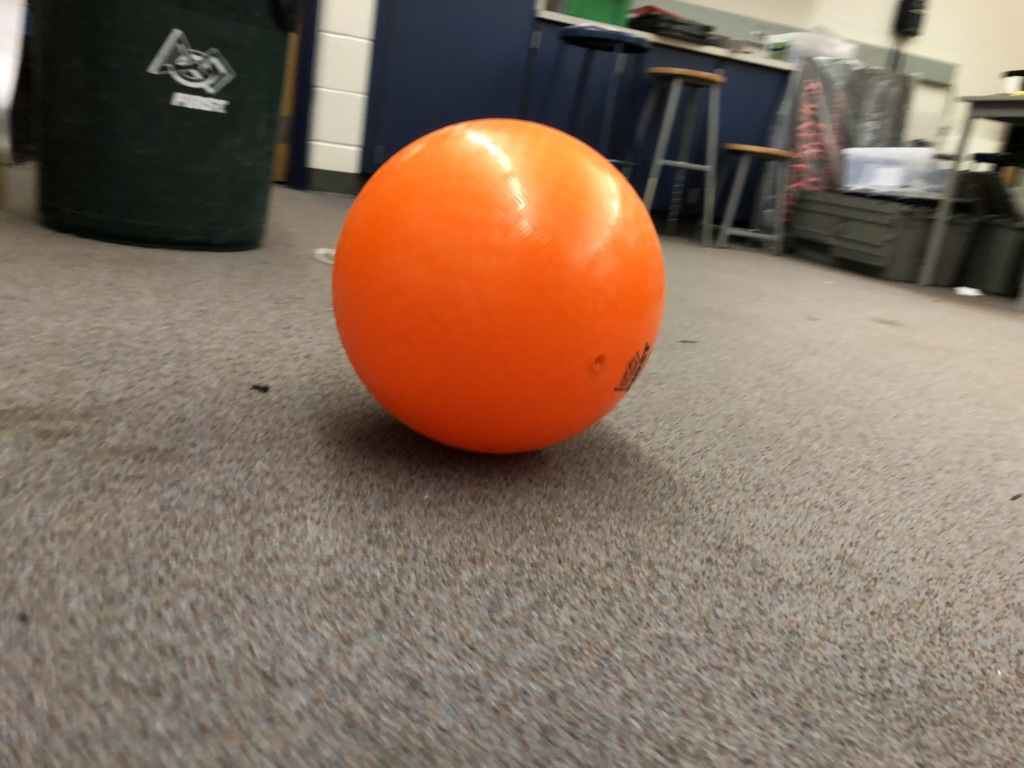cargo: (329, 107, 685, 468)
